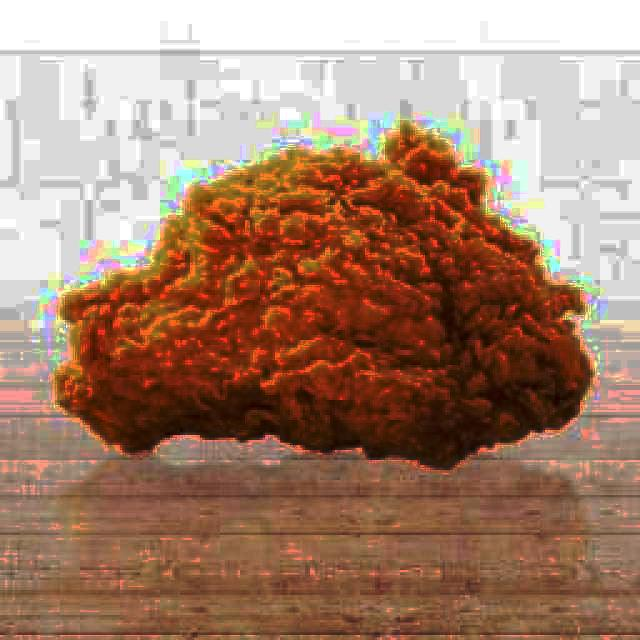fried_chicken: (59, 120, 591, 467)
